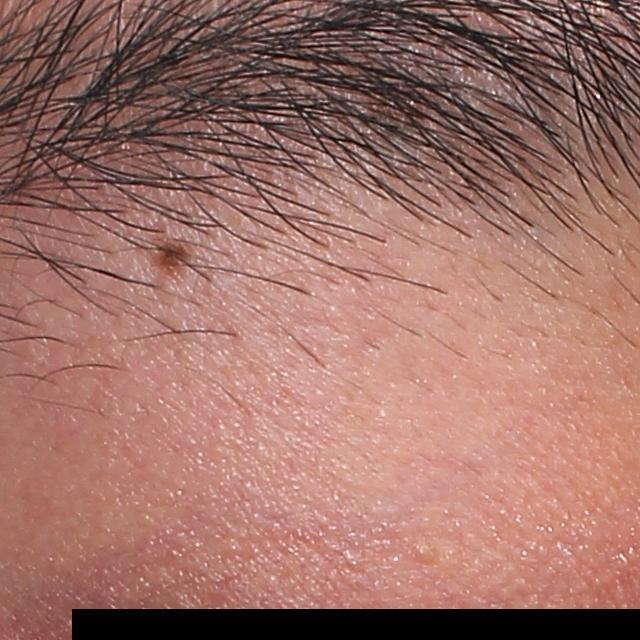nevus: (147, 235, 189, 280)
